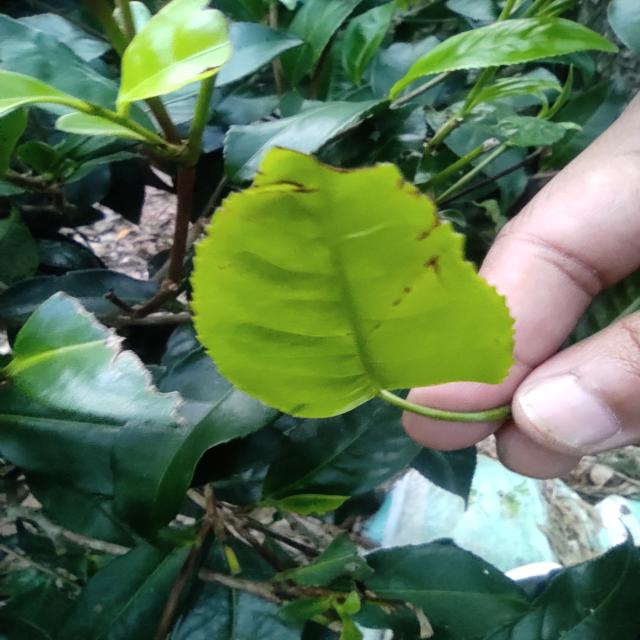Category C(4-7 days): (160, 114, 543, 440)
